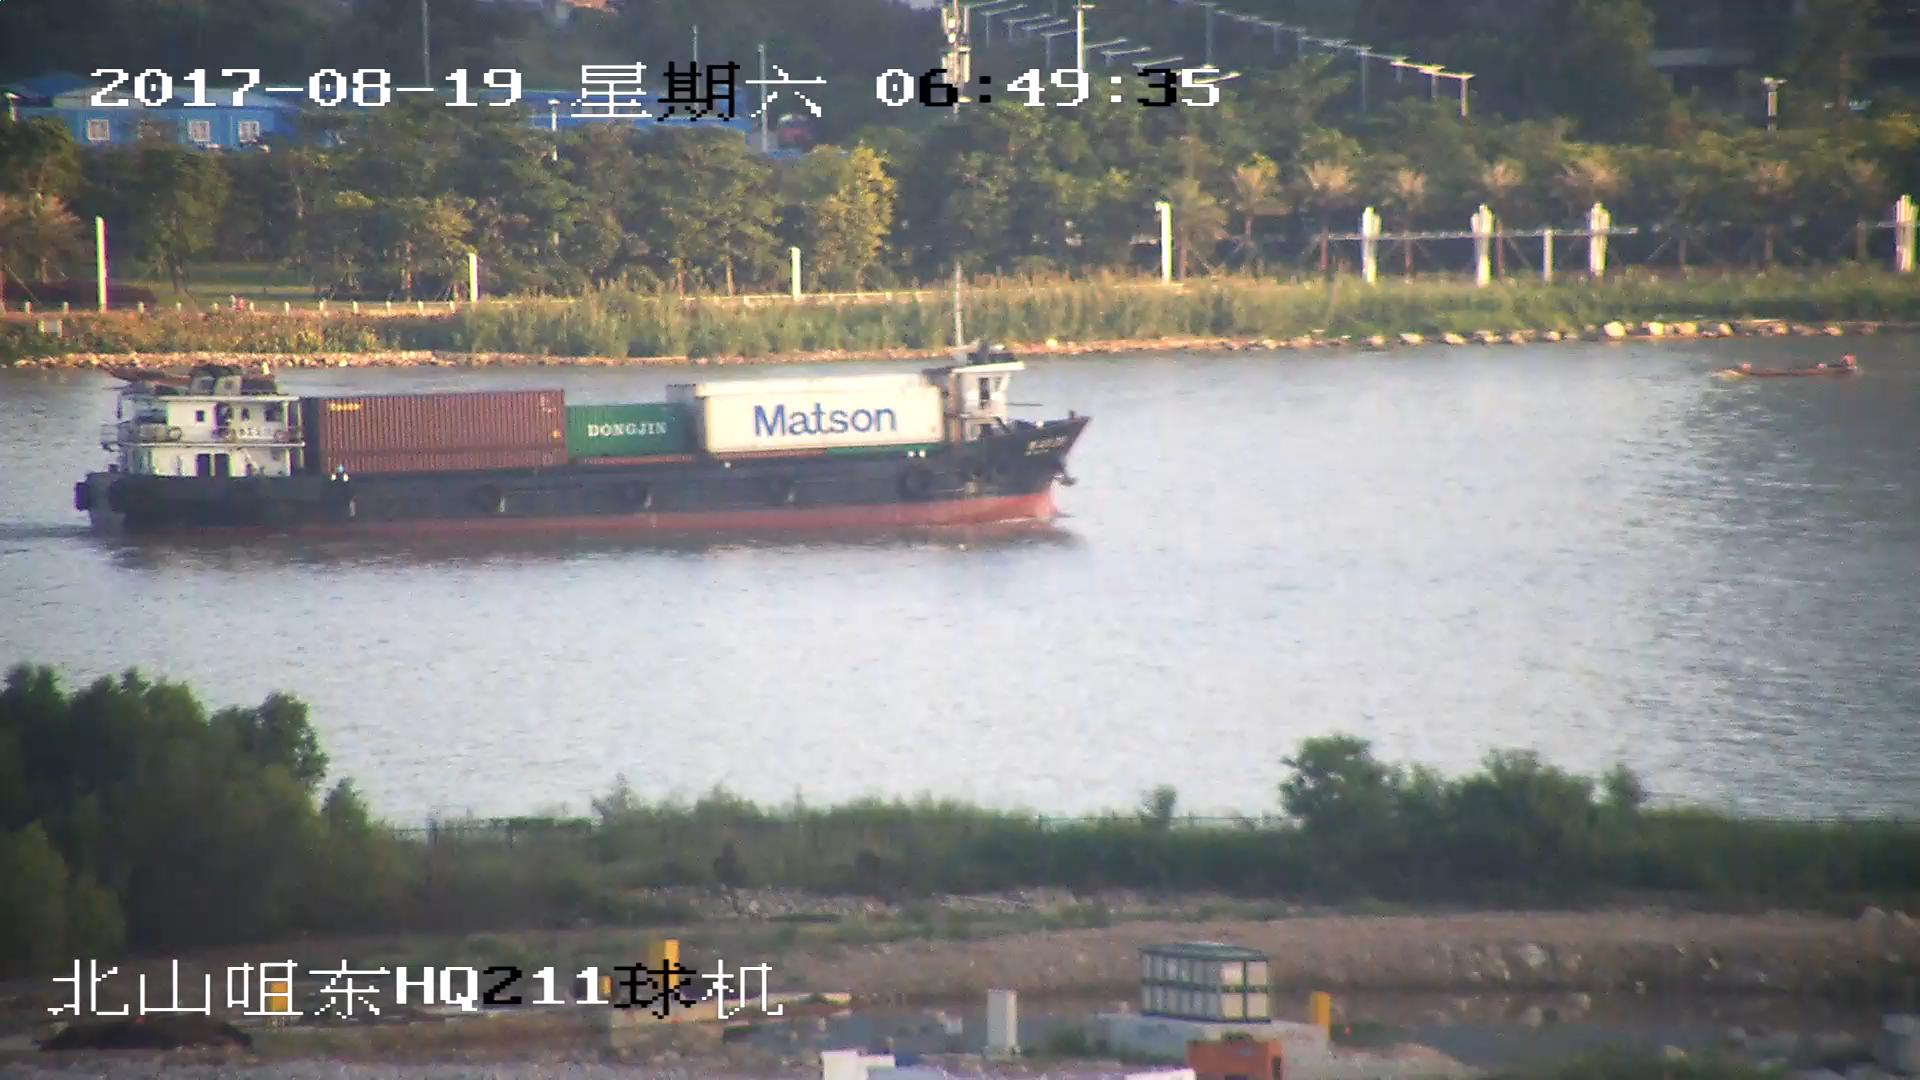container ship: (69, 335, 1091, 533)
